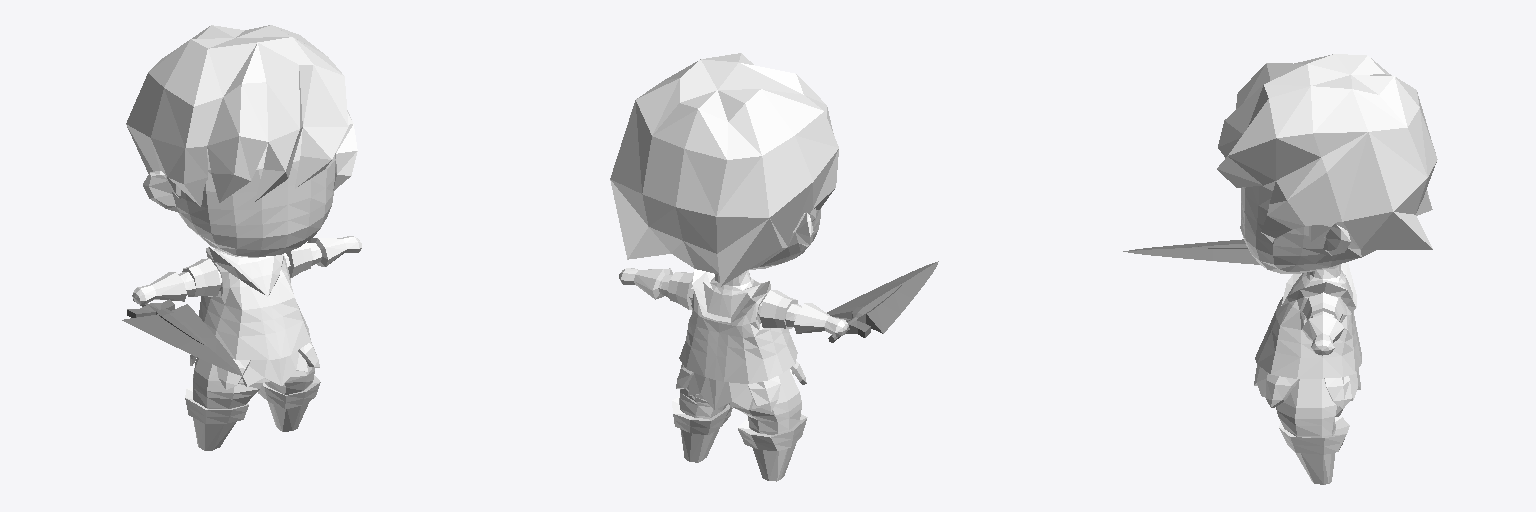
Rendered from Cha_Knight.obj.
3 views of the same model, side by side, from view 1: azimuth 30°, elevation 25°; view 2: azimuth 150°, elevation 25°; view 3: azimuth 270°, elevation 25° (orthographic).
Parts seen in each view (by area): view 1: Cha_Knight.obj; view 2: Cha_Knight.obj; view 3: Cha_Knight.obj.
Part boxes in pixels (left/top/right/bottom): Cha_Knight.obj: left=122, top=25, right=361, bottom=450; Cha_Knight.obj: left=610, top=53, right=938, bottom=481; Cha_Knight.obj: left=1123, top=54, right=1437, bottom=484.
Bounding box in the file's own units: 0.6225 × 0.9493 × 0.6791.